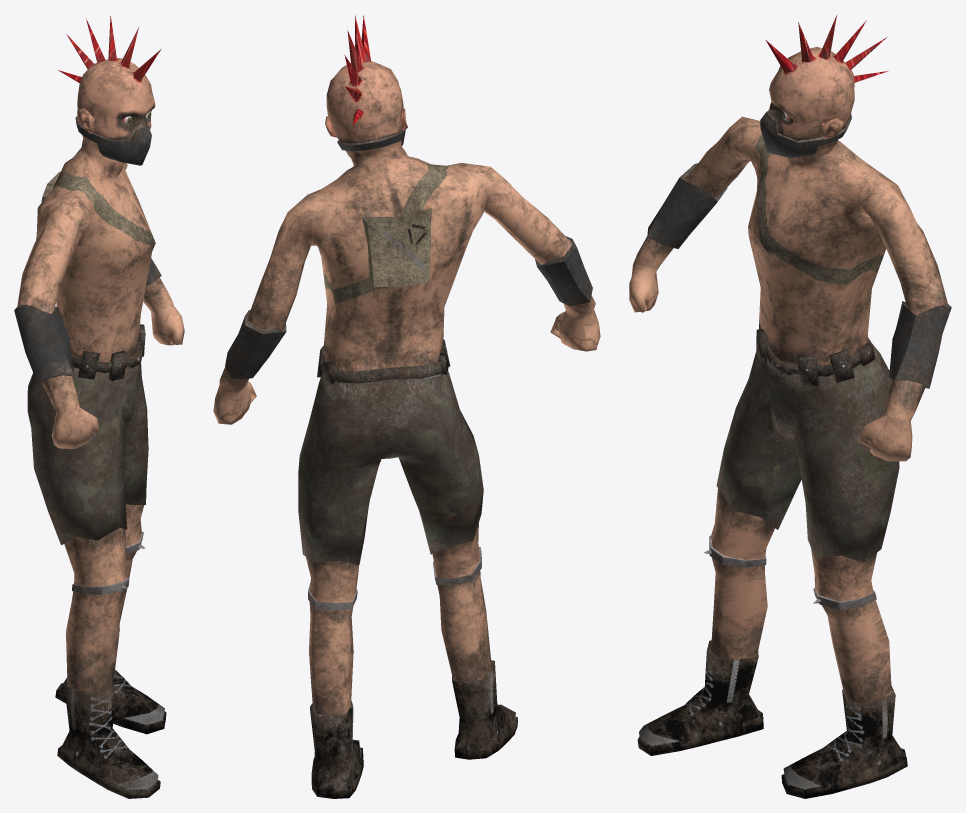
Rendered from Anim_disparar_pistola_npc2.0019.obj.
3 views of the same model, side by side, from view 1: azimuth 30°, elevation 25°; view 2: azimuth 150°, elevation 25°; view 3: azimuth 270°, elevation 25° (orthographic). The views are drawn at different scales.
Visible parts, largest first — view 1: polySurface1; view 2: polySurface1; view 3: polySurface1.
Boxes of the visible parts, x1,y1,x2,y2 form: polySurface1: (14,16,184,798); polySurface1: (213,15,600,798); polySurface1: (629,15,951,798).
Bounding box in the file's own units: 3.74 × 10.16 × 3.89.
2 materials, 2 textured.
